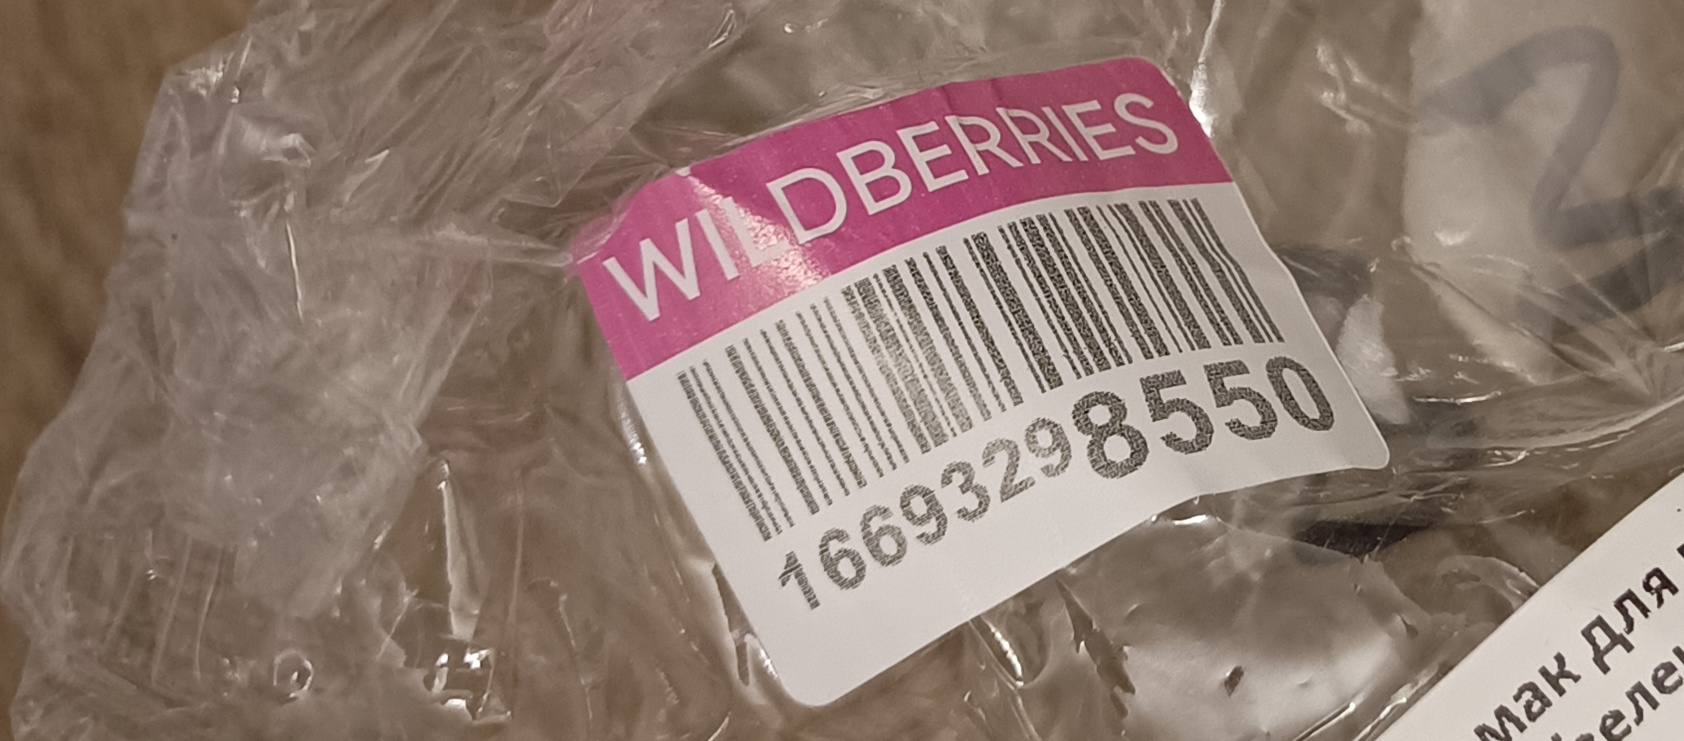1d: (668, 190, 1294, 541)
